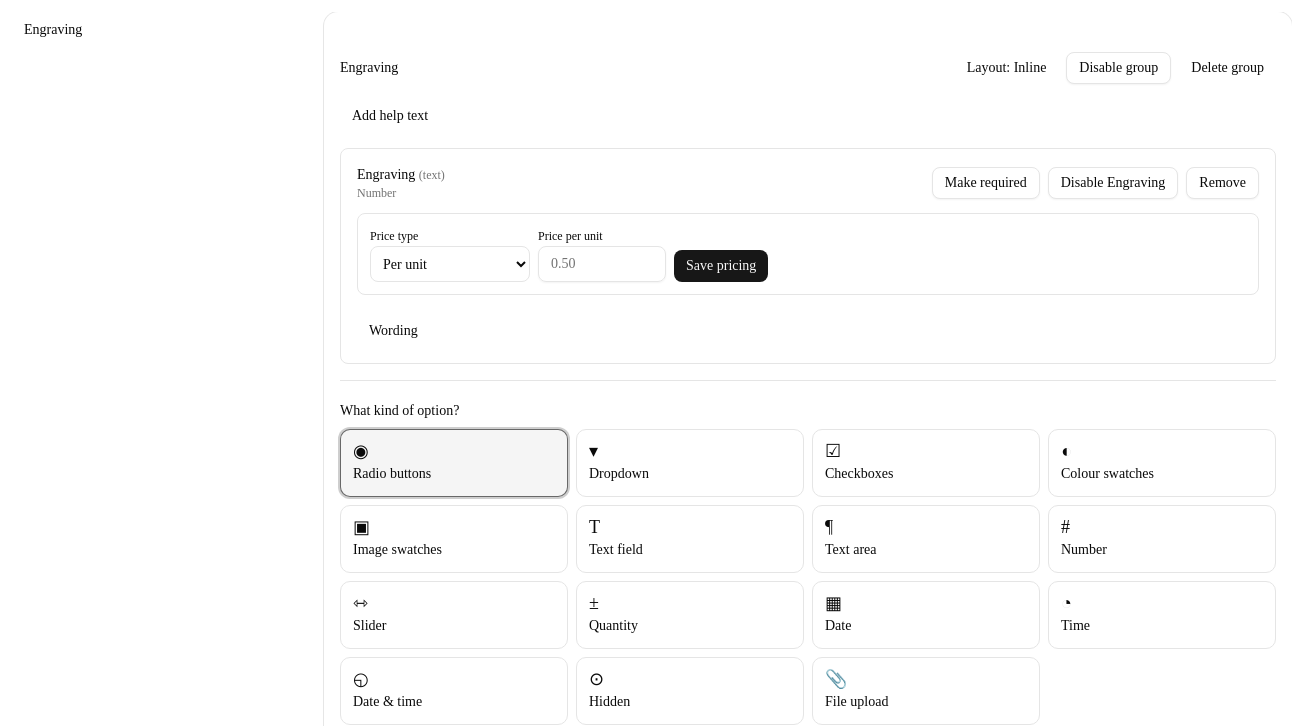
Test: tiered brackets › shows bracket rows when tiered is chosen
The image size is (1292, 726).
Select "Quantity brackets" in the dropdown labelled "Price type": x=450, y=264 [370, 246, 530, 282]
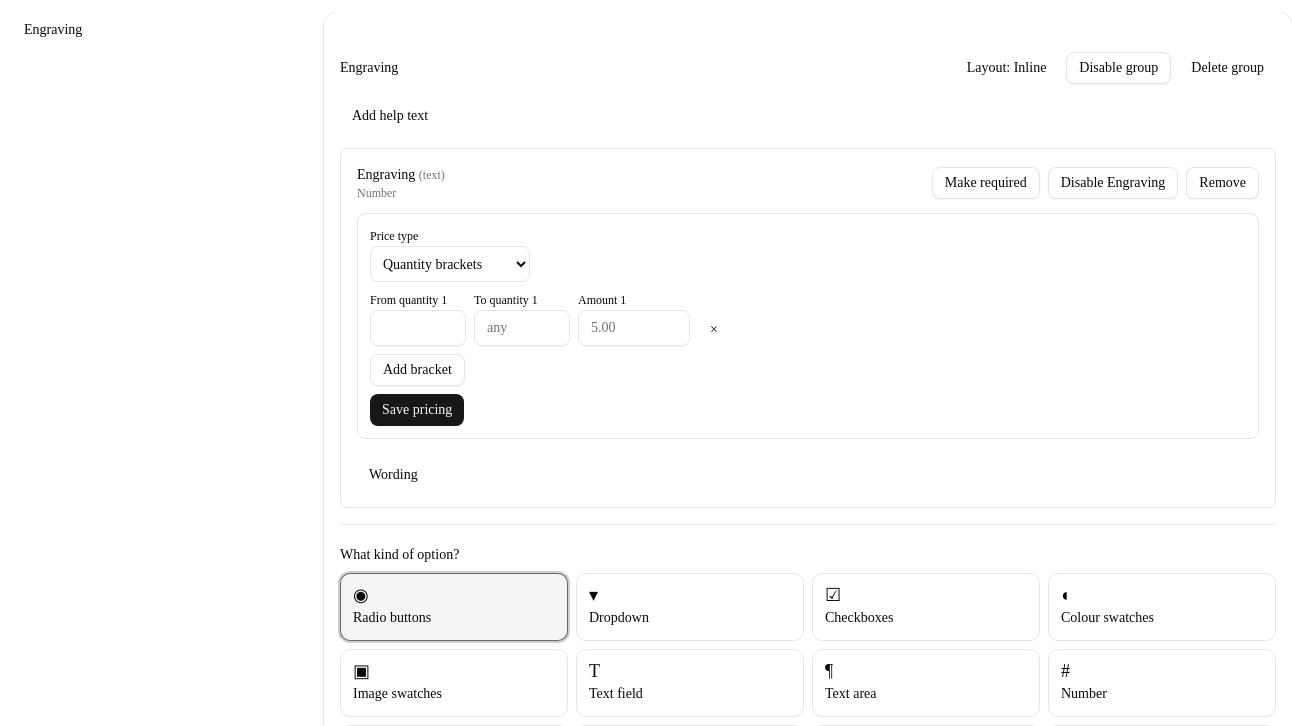
Now the field labelled "From quantity 1" is shown, box [370, 310, 466, 346]
